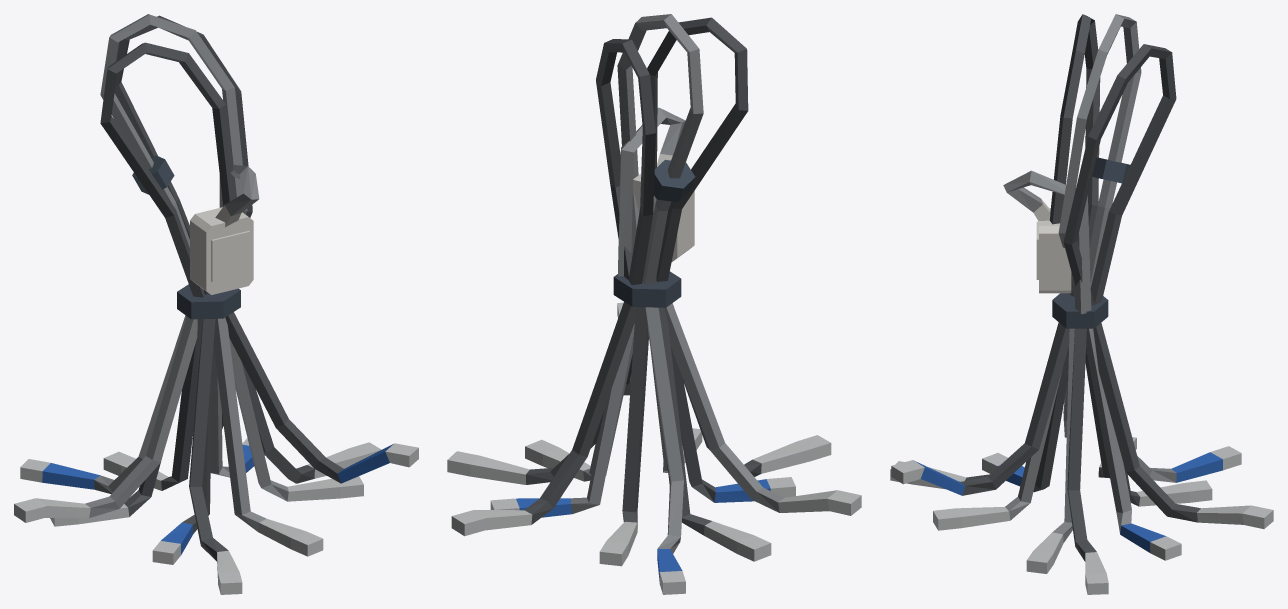
Rendered from cable.glb.
3 renders of one model, left to right at view 1: azimuth 30°, elevation 25°; view 2: azimuth 150°, elevation 25°; view 3: azimuth 270°, elevation 25°, orthographic. The views are drawn at different scales.
Visible parts, largest first — view 1: cable-spaghetti-bundle, lead-loose; view 2: cable-spaghetti-bundle; view 3: cable-spaghetti-bundle, lead-loose.
Boxes of the visible parts, left/top/right/bottom form: cable-spaghetti-bundle: left=14, top=14, right=381, bottom=594; lead-loose: left=225, top=312, right=418, bottom=483; cable-spaghetti-bundle: left=447, top=14, right=861, bottom=594; cable-spaghetti-bundle: left=890, top=14, right=1273, bottom=594; lead-loose: left=891, top=323, right=1069, bottom=495.
Bounding box in the file's own units: 0.5456 × 0.6885 × 0.5009.
